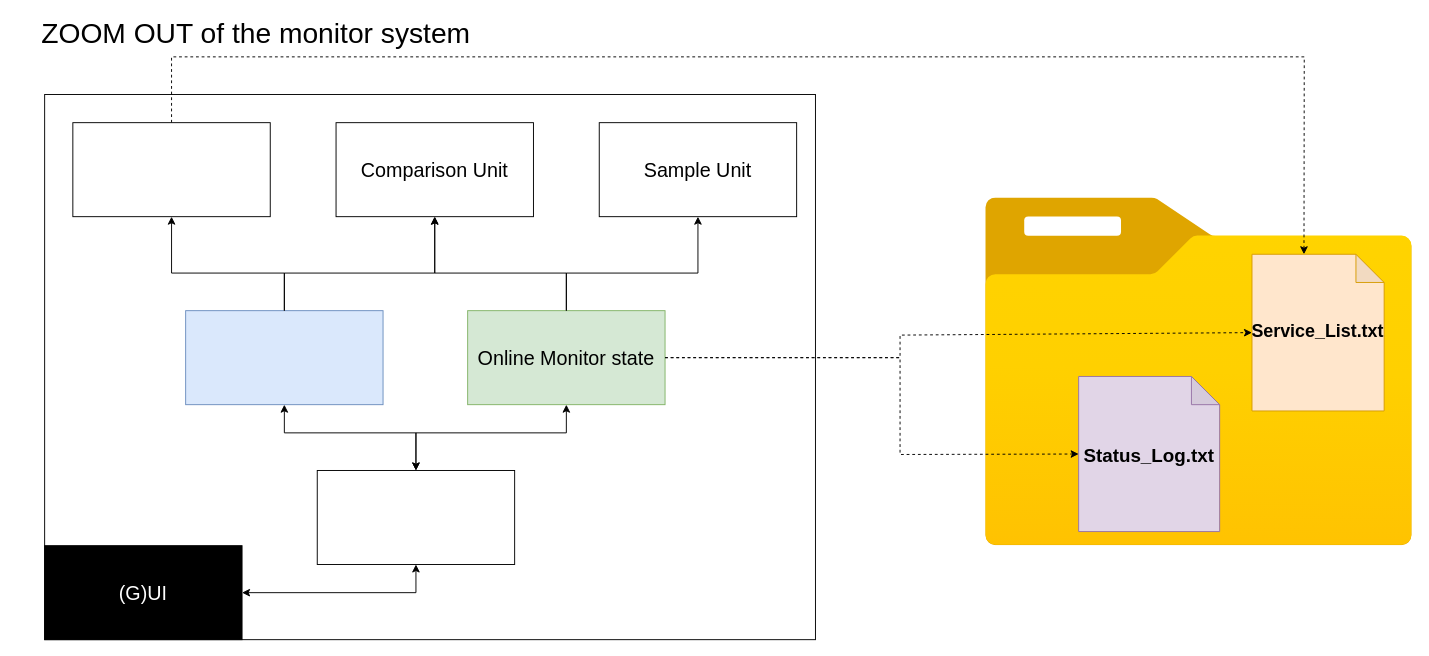
The diagram is 1429 pixels wide and 656 high, and some of its shapes have lost their labels. The centre of each missing label's shape, as x and y in pixels:
"export sample Unit" goes at (171,169).
"Logic Unit" goes at (415,517).
"Offline Monitor state" goes at (284,357).
